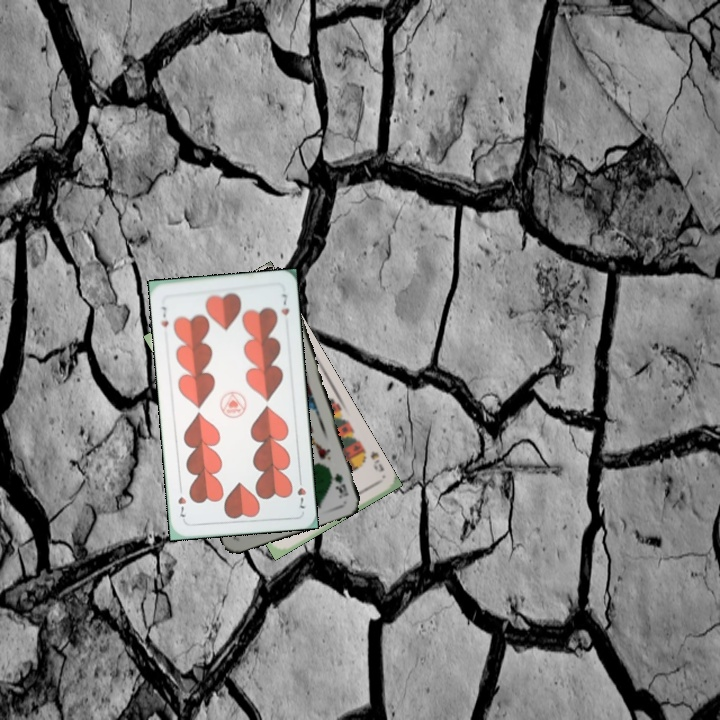GK: (331, 469, 351, 500)
H7: (293, 472, 308, 511), (157, 302, 171, 329)
S9: (358, 443, 386, 475)
